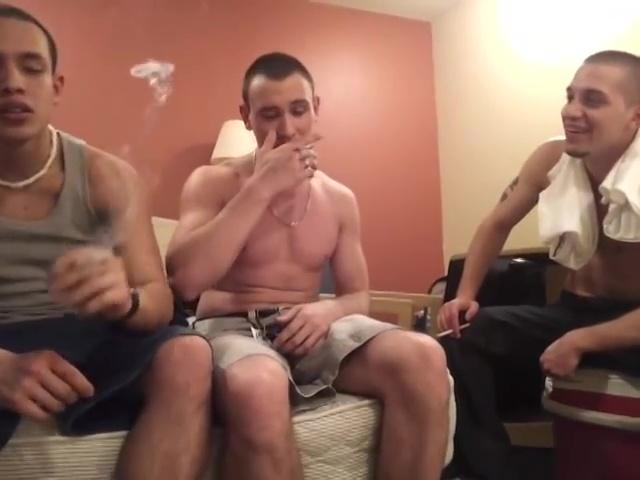cigarette: (435, 323, 472, 339)
